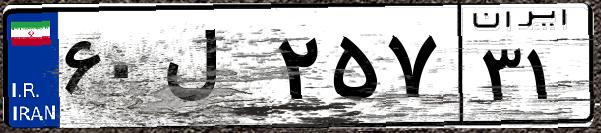0: (110, 28, 158, 98)
1: (525, 38, 570, 115)
2: (270, 28, 330, 110)
3: (475, 38, 525, 113)
5: (330, 28, 385, 110)
6: (57, 26, 110, 100)
7: (385, 28, 445, 110)
ل: (158, 20, 270, 120)
